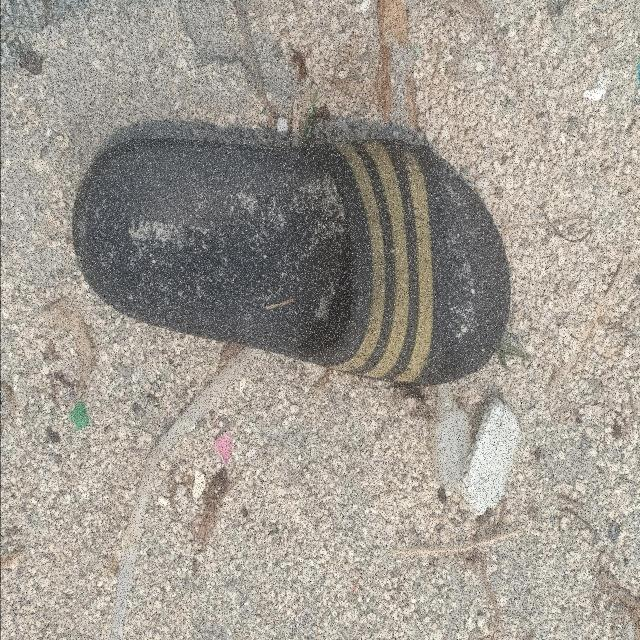plastic_waste: (112, 348, 258, 640)
rubber_waste: (73, 131, 513, 388)
